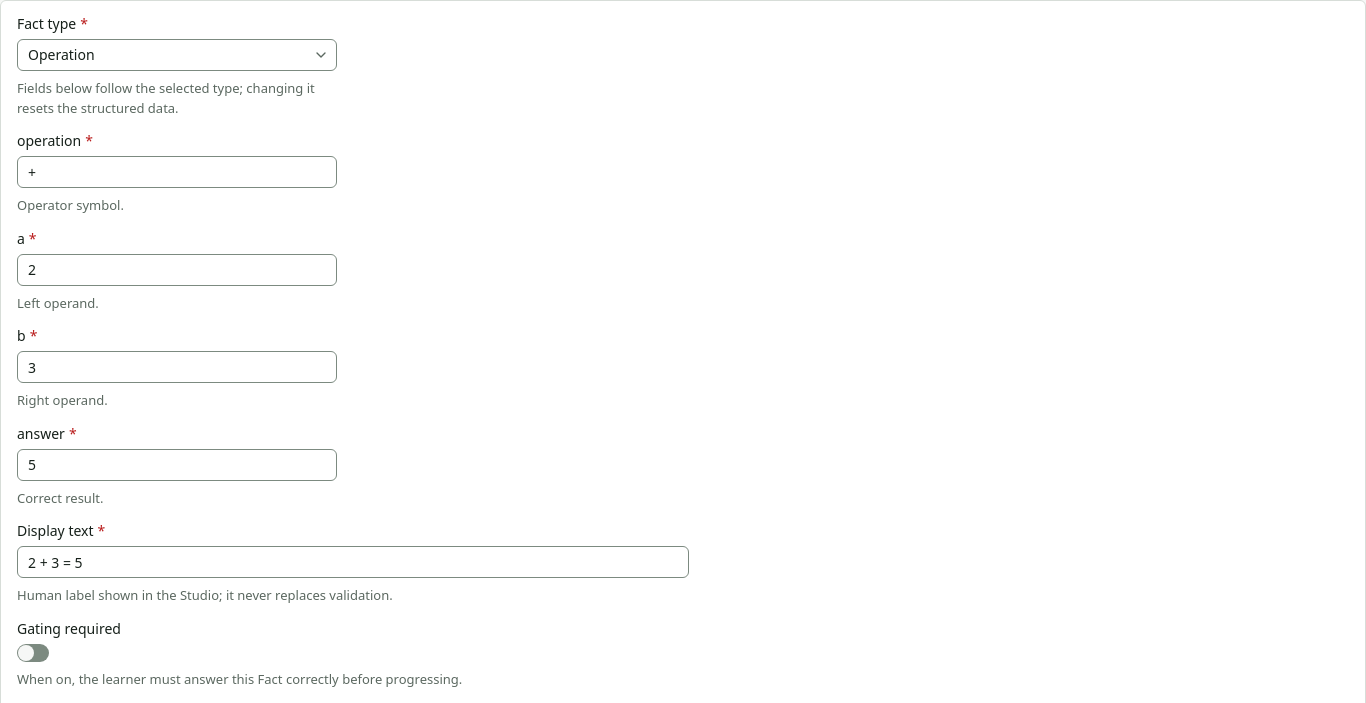
Test case: FactEditor › renders structured fields from the selected factType
Check: the field labelled "operation" holds "+", box left=17, top=156, right=337, bottom=188
Check: the number field labelled "a" is shown, box left=17, top=254, right=337, bottom=286
Select "Equivalence" in the dropdown labelled "Fact type" at (177, 55), box left=17, top=39, right=337, bottom=71
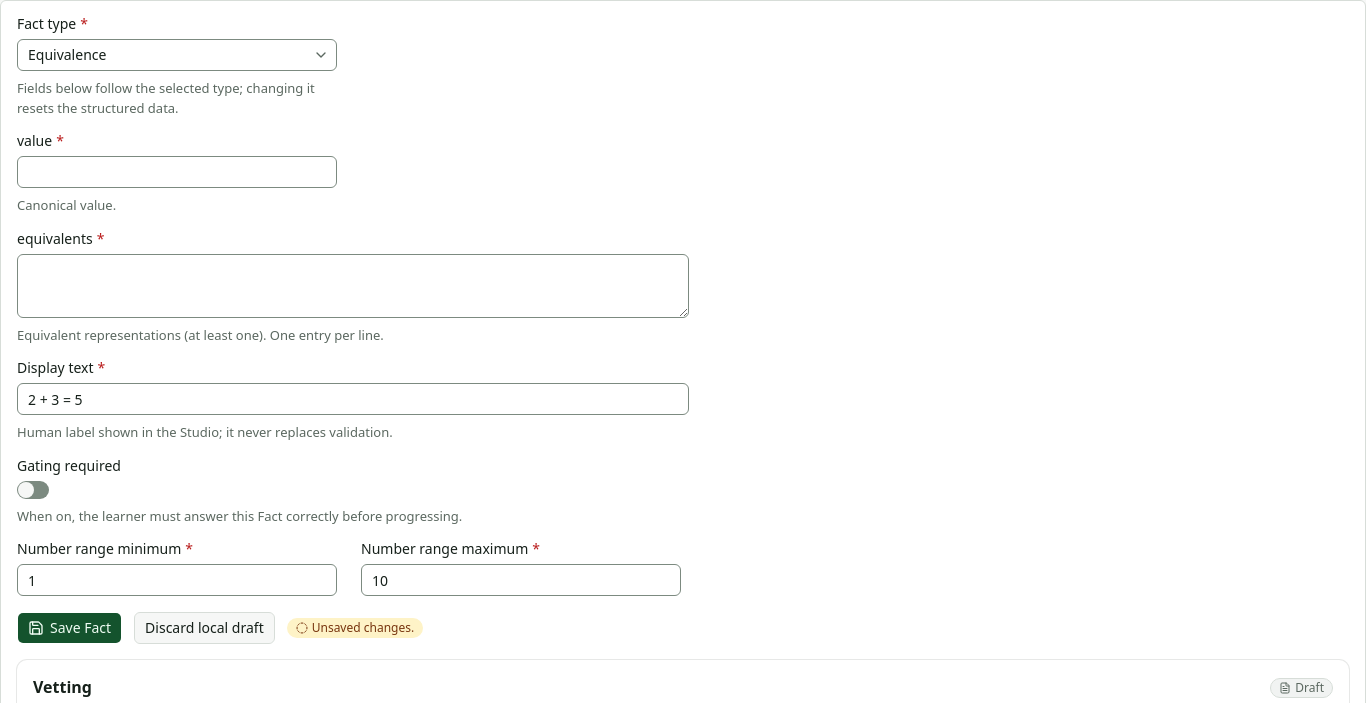
Check: the field labelled "value" is shown, box left=17, top=156, right=337, bottom=188
Check: the text box labelled "equivalents" is shown, box left=17, top=254, right=689, bottom=318
Check: the label labelled "operation" is gone
Select "Calendar" in the dropdown labelled "Fact type" at (177, 55), box left=17, top=39, right=337, bottom=71
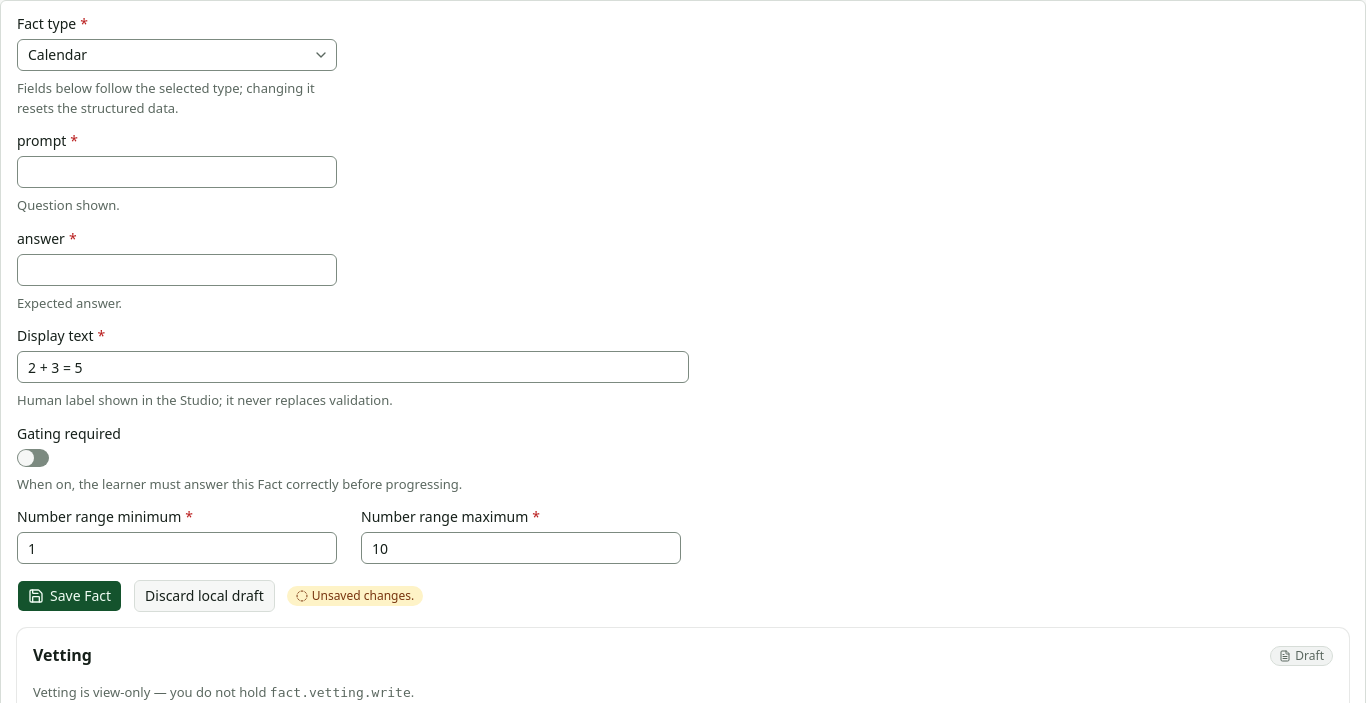
Check: the field labelled "prompt" is shown, box left=17, top=156, right=337, bottom=188
Check: the field labelled "answer" is shown, box left=17, top=254, right=337, bottom=286
Check: the label labelled "value" is gone
